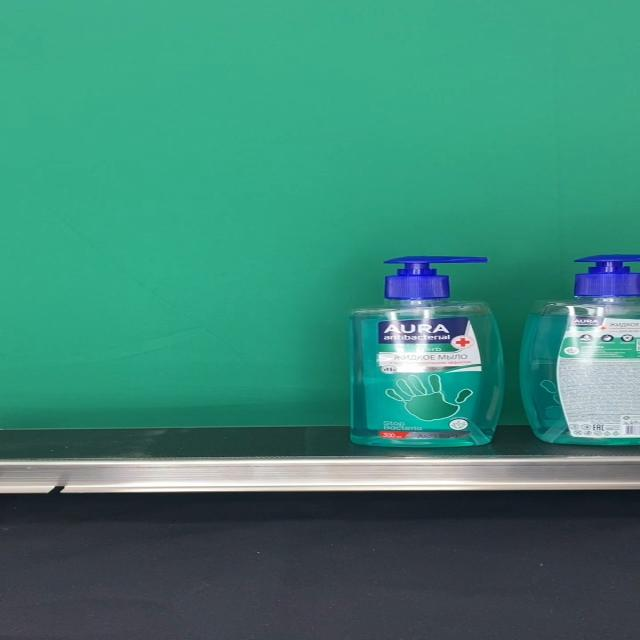Bottle: (346, 256, 505, 447)
Cap: (382, 256, 487, 300)
